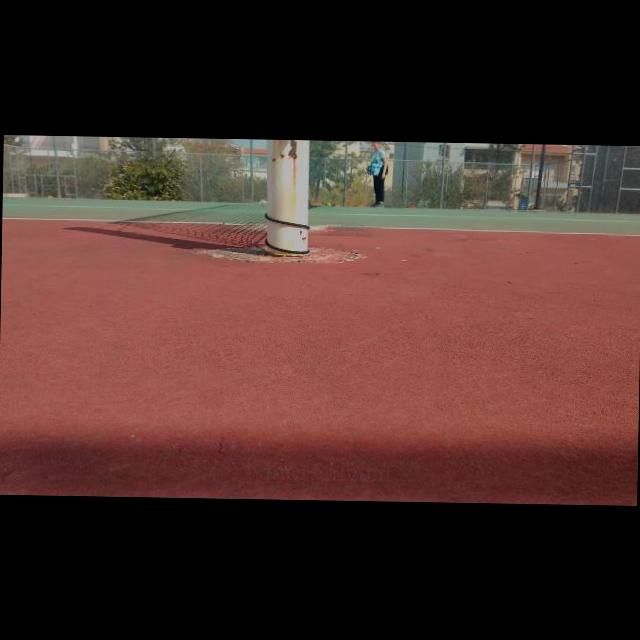Tennis Ball: (327, 202, 330, 205)
